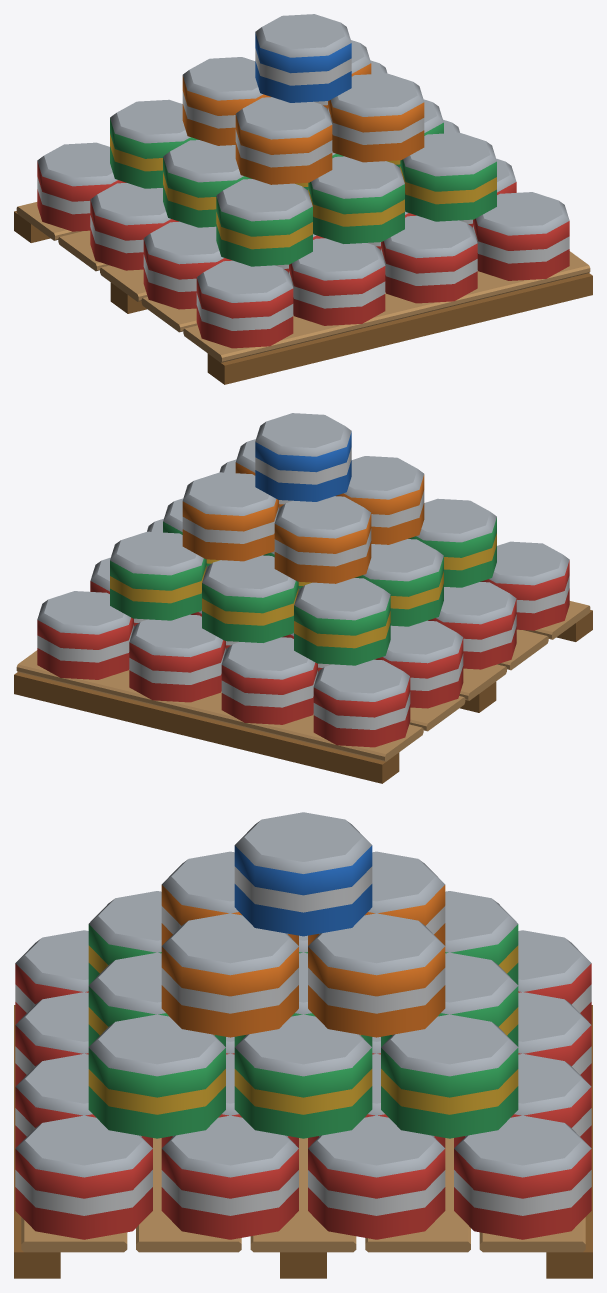
The model's file is market-block.glb.
3 views of the same model, one above another, from view 1: azimuth 30°, elevation 25°; view 2: azimuth 150°, elevation 25°; view 3: azimuth 270°, elevation 25° (orthographic). The views are drawn at different scales.
Visible parts, largest first — view 1: market-block; view 2: market-block; view 3: market-block.
Part boxes in pixels (x1,y1,x2,y2): market-block: (14, 14, 592, 384); market-block: (14, 413, 592, 783); market-block: (14, 812, 592, 1278).
Bounding box in the file's own units: 2 × 1.2 × 1.98.
